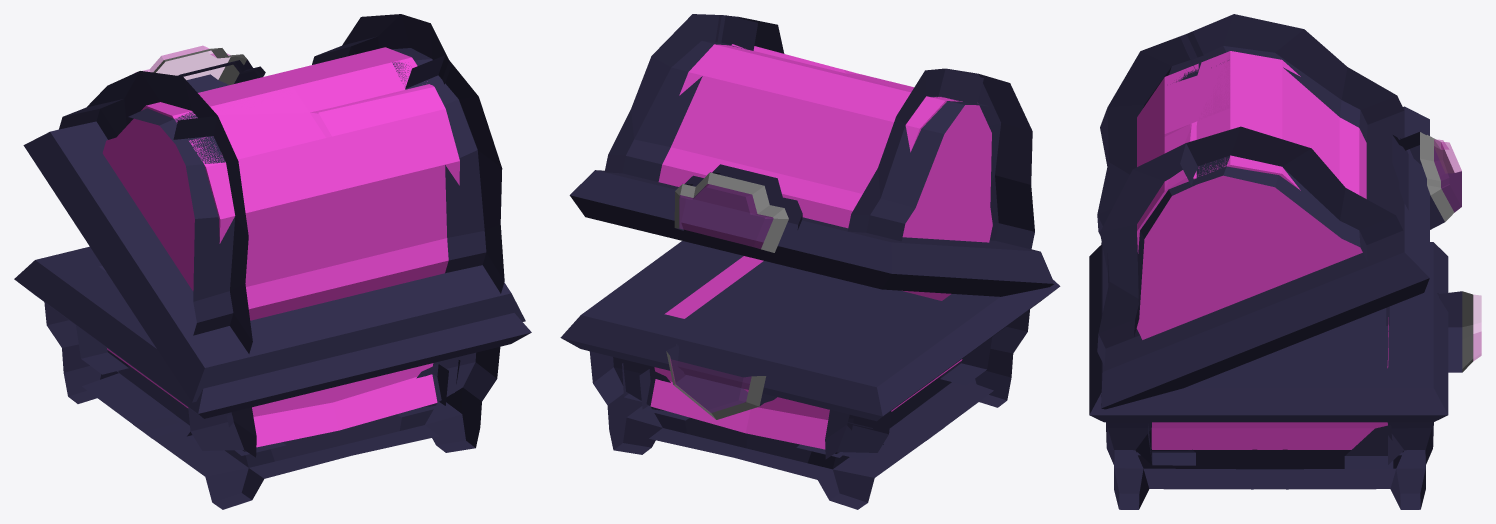
Rendered from cofre.glb.
3 views of the same model, side by side, from view 1: azimuth 30°, elevation 25°; view 2: azimuth 150°, elevation 25°; view 3: azimuth 270°, elevation 25° (orthographic). The views are drawn at different scales.
Parts seen in each view (by area): view 1: Plane.003_7, Plane.001_1, Plane.002_2, Plane_0, Plane.008_5, Plane.009_6, Plane.005_3; view 2: Plane.001_1, Plane.003_7, Plane.002_2, Plane_0, Plane.009_6, Plane.008_5, Plane.006_4, Plane.005_3; view 3: Plane.001_1, Plane.003_7, Plane.002_2, Plane_0, Plane.008_5, Plane.009_6, Plane.006_4, Plane.005_3.
Part boxes in pixels (x1,y1,x2,y2): Plane.003_7: [102, 47, 459, 320]; Plane.001_1: [14, 121, 531, 418]; Plane.002_2: [59, 14, 504, 353]; Plane_0: [44, 302, 500, 509]; Plane.008_5: [107, 348, 437, 447]; Plane.009_6: [135, 45, 265, 92]; Plane.005_3: [76, 325, 460, 455]; Plane.001_1: [560, 170, 1060, 421]; Plane.003_7: [658, 44, 992, 242]; Plane.002_2: [604, 14, 1034, 249]; Plane_0: [589, 309, 1029, 509]; Plane.009_6: [674, 164, 802, 252]; Plane.008_5: [650, 256, 962, 449]; Plane.006_4: [666, 344, 777, 419]; Plane.005_3: [622, 337, 992, 459]; Plane.001_1: [1089, 106, 1448, 422]; Plane.003_7: [1136, 51, 1366, 339]; Plane.002_2: [1097, 14, 1404, 366]; Plane_0: [1106, 422, 1433, 509]; Plane.008_5: [1151, 317, 1388, 449]; Plane.009_6: [1392, 132, 1461, 229]; Plane.006_4: [1386, 291, 1481, 372]; Plane.005_3: [1130, 424, 1409, 468].
Bounding box in the file's own units: 4.68 × 5.12 × 4.88.
